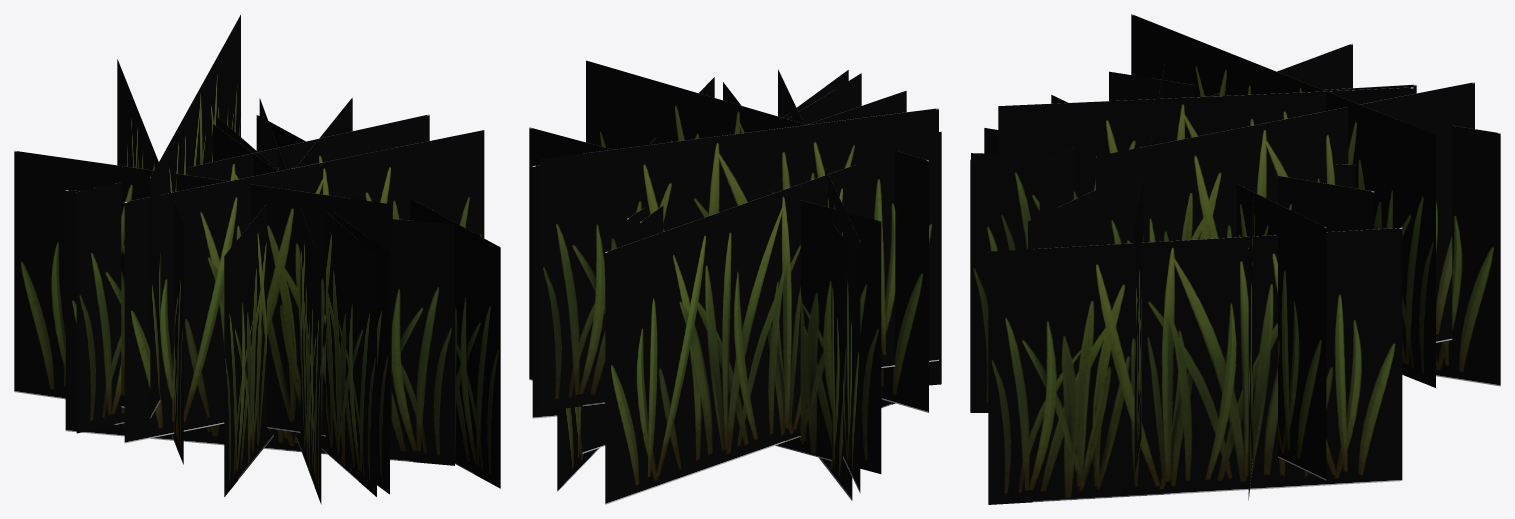
File: grass_green.glb
3 views of the same model, side by side, from view 1: azimuth 30°, elevation 25°; view 2: azimuth 150°, elevation 25°; view 3: azimuth 270°, elevation 25° (orthographic). The views are drawn at different scales.
Parts seen in each view (by area): view 1: Grass_green.013; view 2: Grass_green.013; view 3: Grass_green.013.
Part boxes in pixels (x1,y1,x2,y2): Grass_green.013: (14,15,500,504); Grass_green.013: (529,60,941,504); Grass_green.013: (970,14,1500,504).
Bounding box in the file's own units: 159 × 137 × 190.
14 materials, 14 textured.
